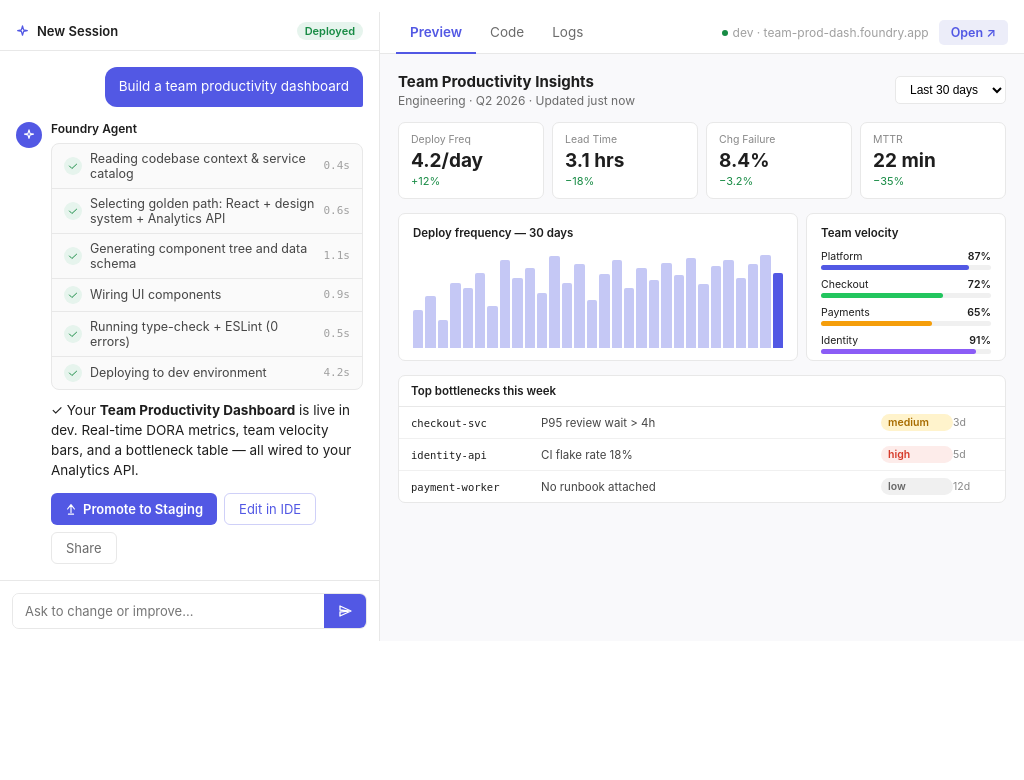
Test: BuildScreen › switches the preview panel to the Code tab when Edit in IDE is clicked
The width and height of the screenshot is (1024, 780).
Click the button "Edit in IDE". click: (270, 509)
box: [224,493,316,525]
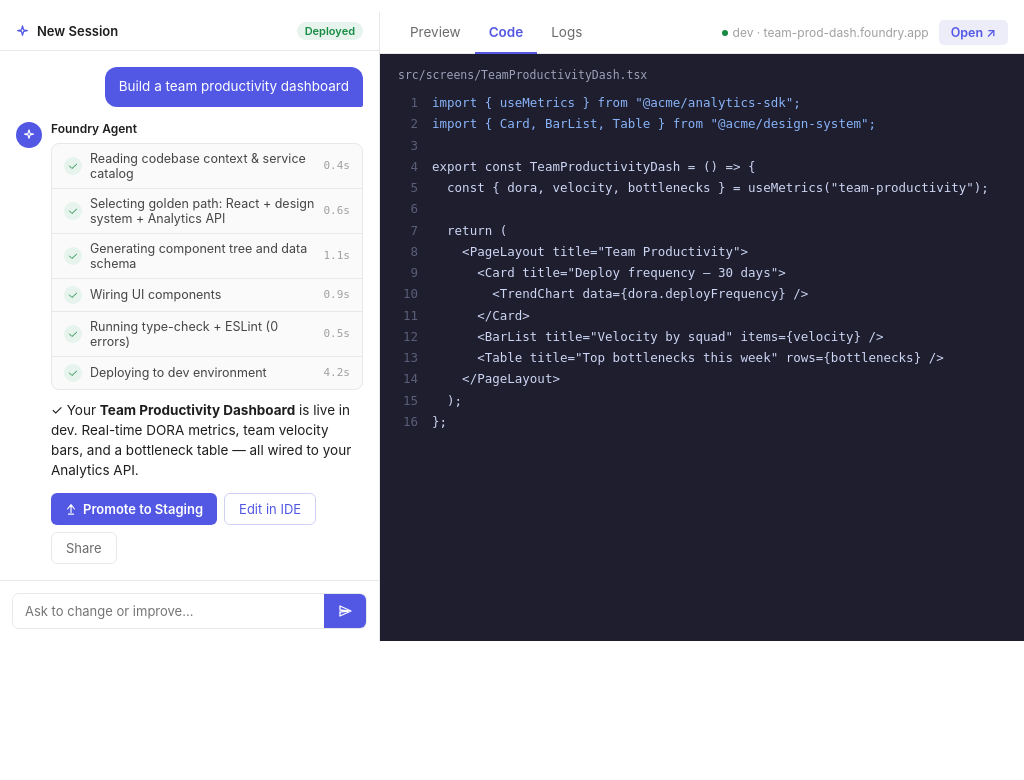
Now the text "src/screens/TeamProductivityDash.tsx" is shown, box [398,68,647,82]
